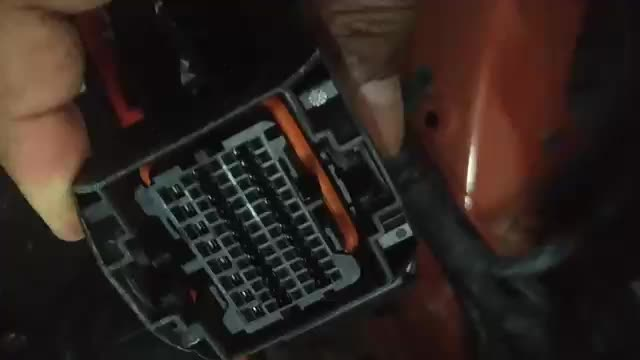connector: (70, 48, 416, 360)
